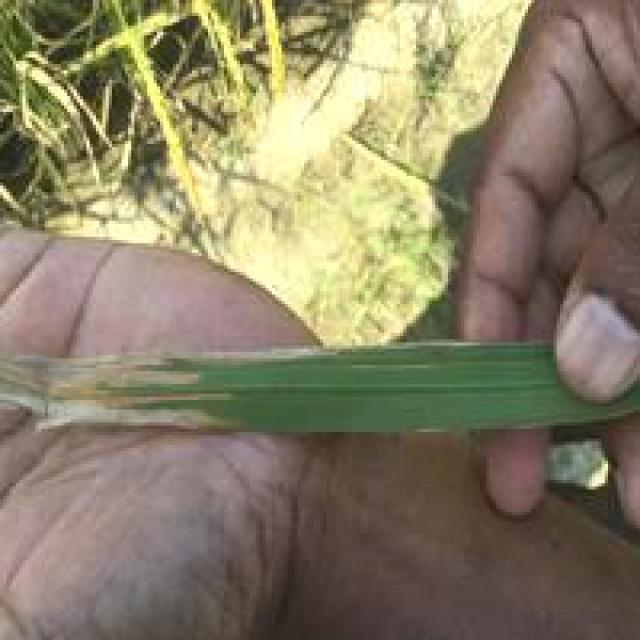Bacterial_Leaf_Blight: (0, 304, 464, 422)
